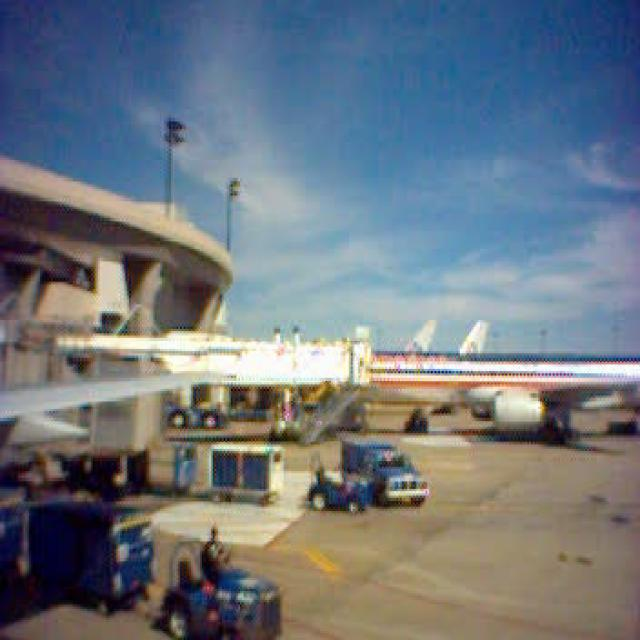Vehicle: (3, 494, 149, 614), (160, 522, 284, 638), (160, 525, 285, 640), (338, 435, 429, 508), (113, 512, 155, 578), (302, 469, 368, 510)
